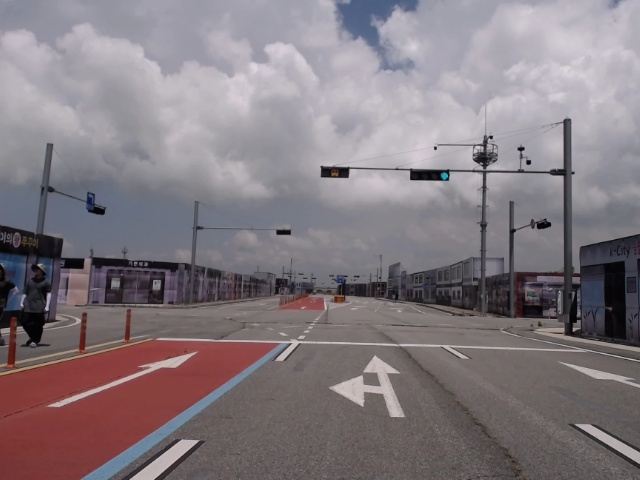straight_green_4: (410, 170, 451, 182)
